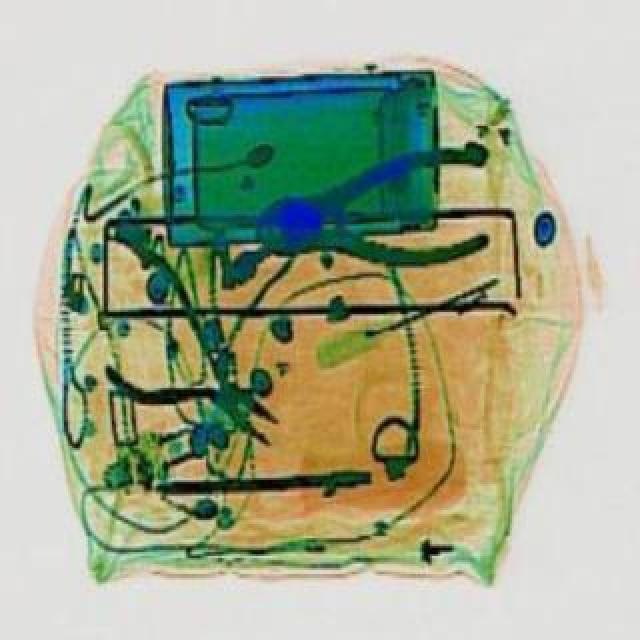wrench: (46, 232, 318, 476), (248, 138, 500, 282)
